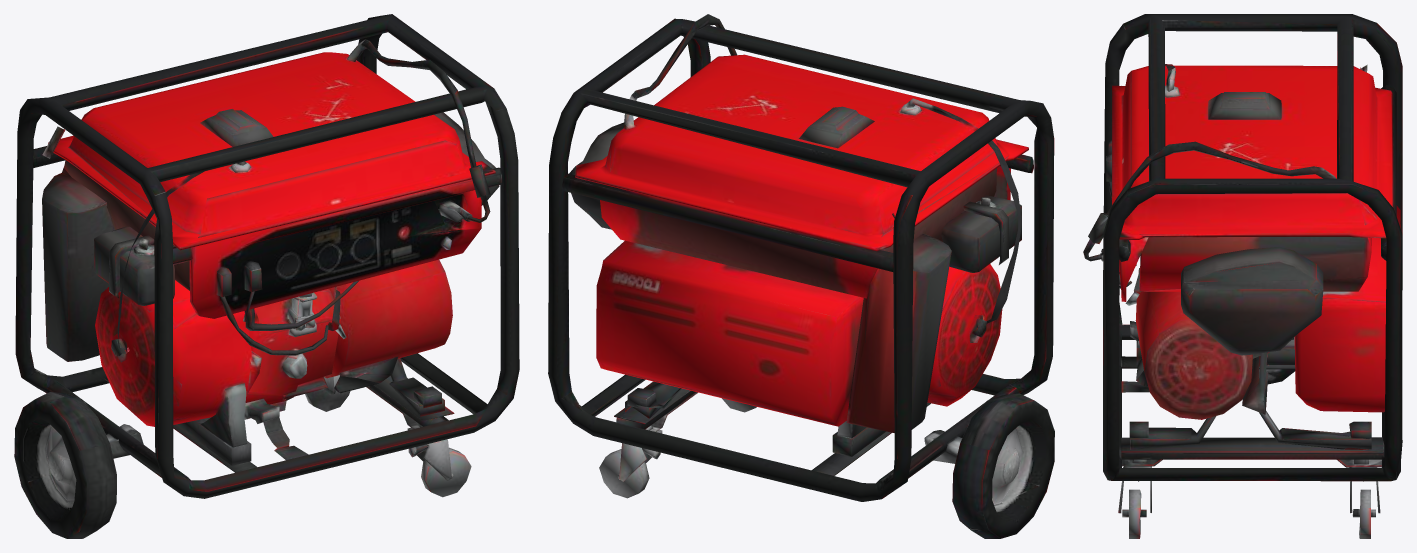
File: prp_generator.glb
3 renders of one model, left to right at view 1: azimuth 30°, elevation 25°; view 2: azimuth 150°, elevation 25°; view 3: azimuth 270°, elevation 25°, orthographic.
Bounding box in the file's own units: 0.9541 × 0.8818 × 0.6294.
1 material, 1 textured.
